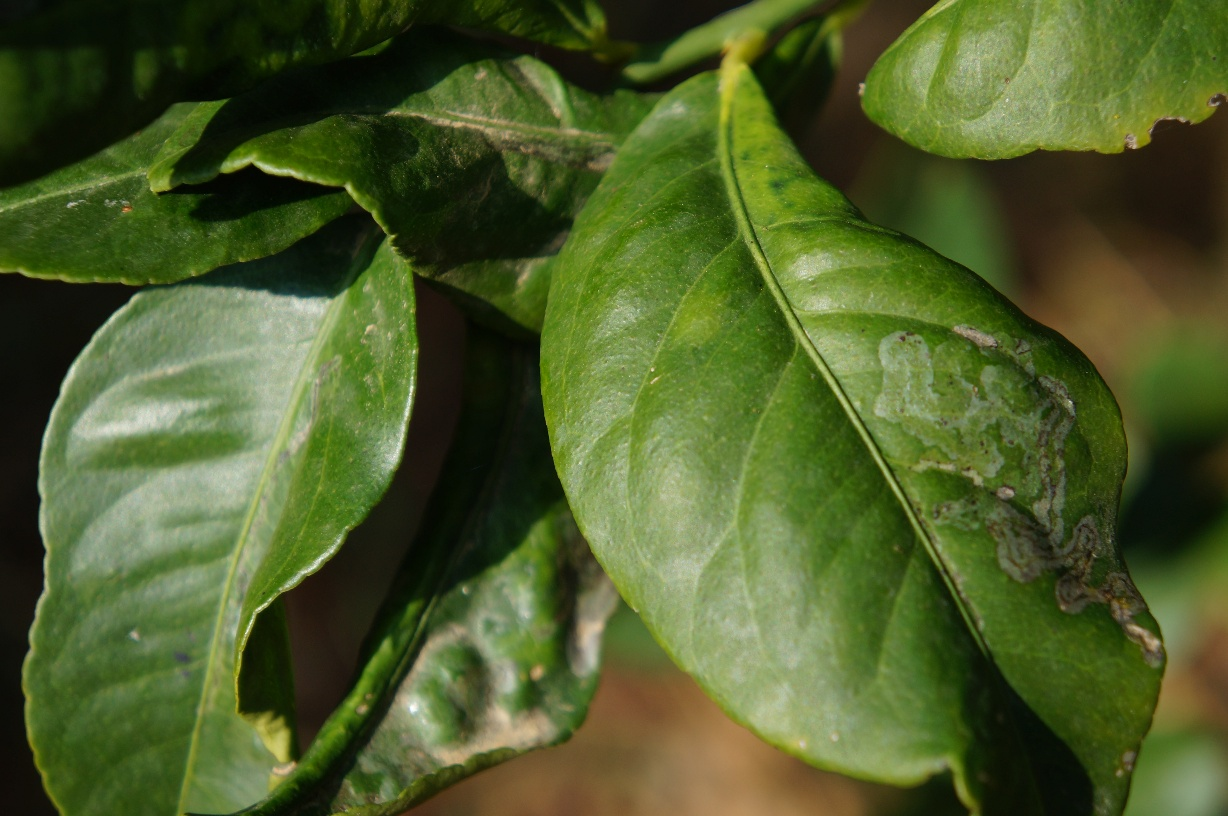damage: (872, 322, 1176, 673)
